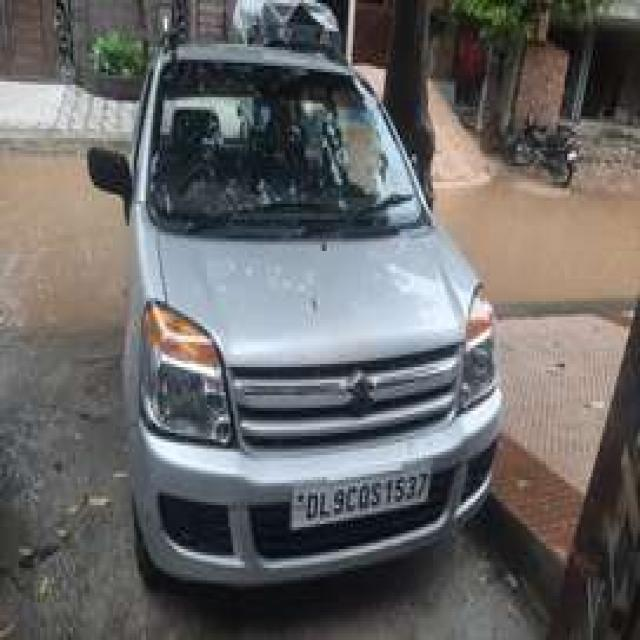Plate: (288, 462, 429, 528)
